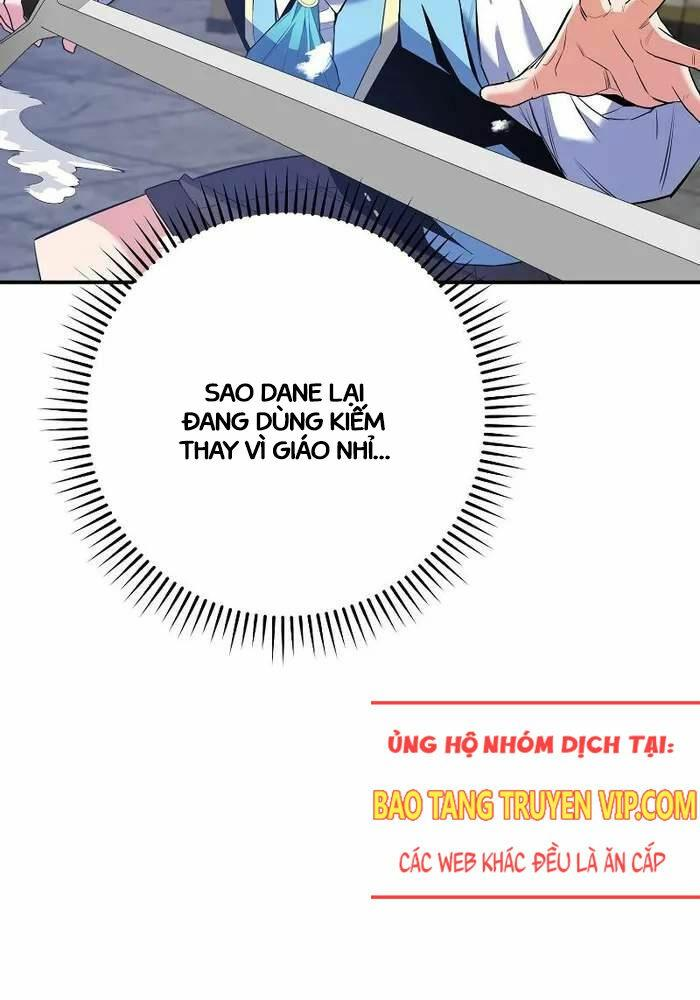quangcao: (370, 701, 700, 900)
